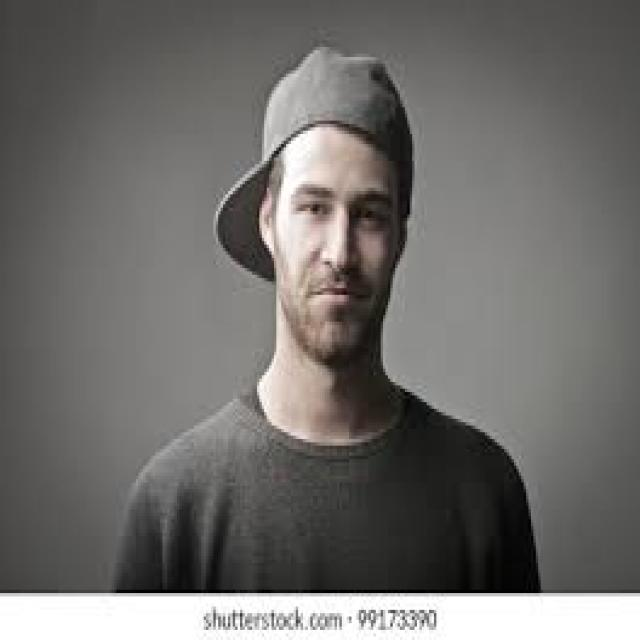cap: (211, 40, 410, 369)
